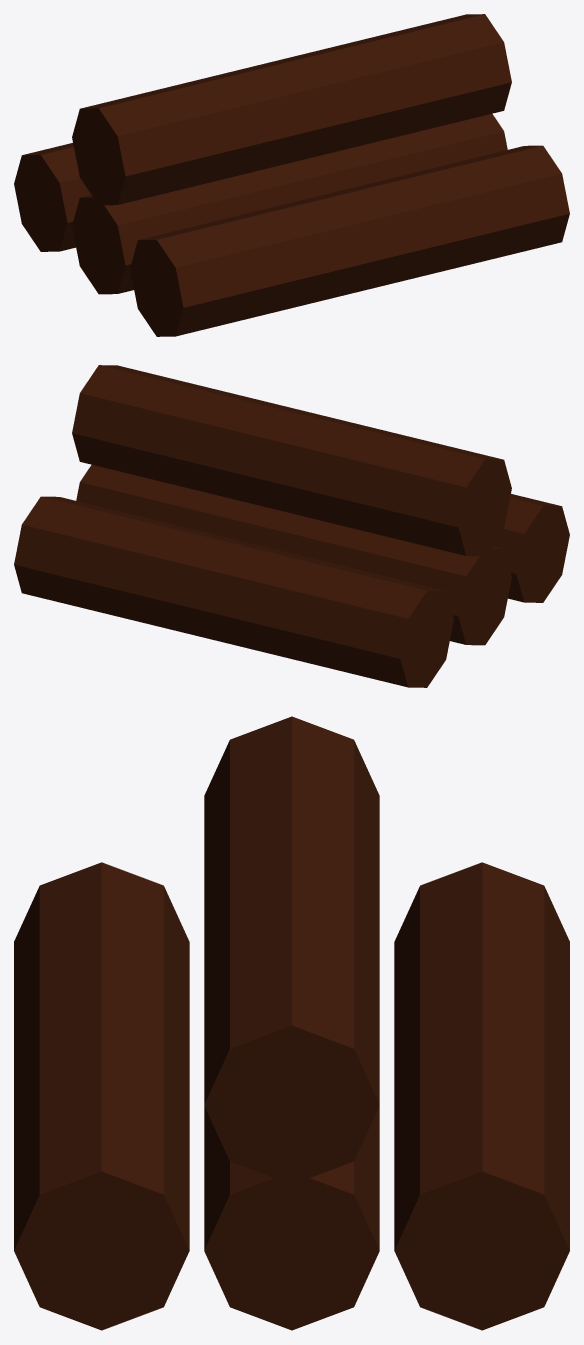
File: wood_log_pile.obj
The picture shows the model from 3 angles, top to bottom: view 1: azimuth 30°, elevation 25°; view 2: azimuth 150°, elevation 25°; view 3: azimuth 270°, elevation 25°; orthographic projection. The views are drawn at different scales.
Parts seen in each view (by area): view 1: wood_log_pile; view 2: wood_log_pile; view 3: wood_log_pile.
Boxes of the visible parts, x1,y1,x2,y2 form: wood_log_pile: (14, 14, 569, 336); wood_log_pile: (14, 365, 569, 687); wood_log_pile: (14, 716, 569, 1330).
Bounding box in the file's own units: 1 × 0.46 × 0.76.
